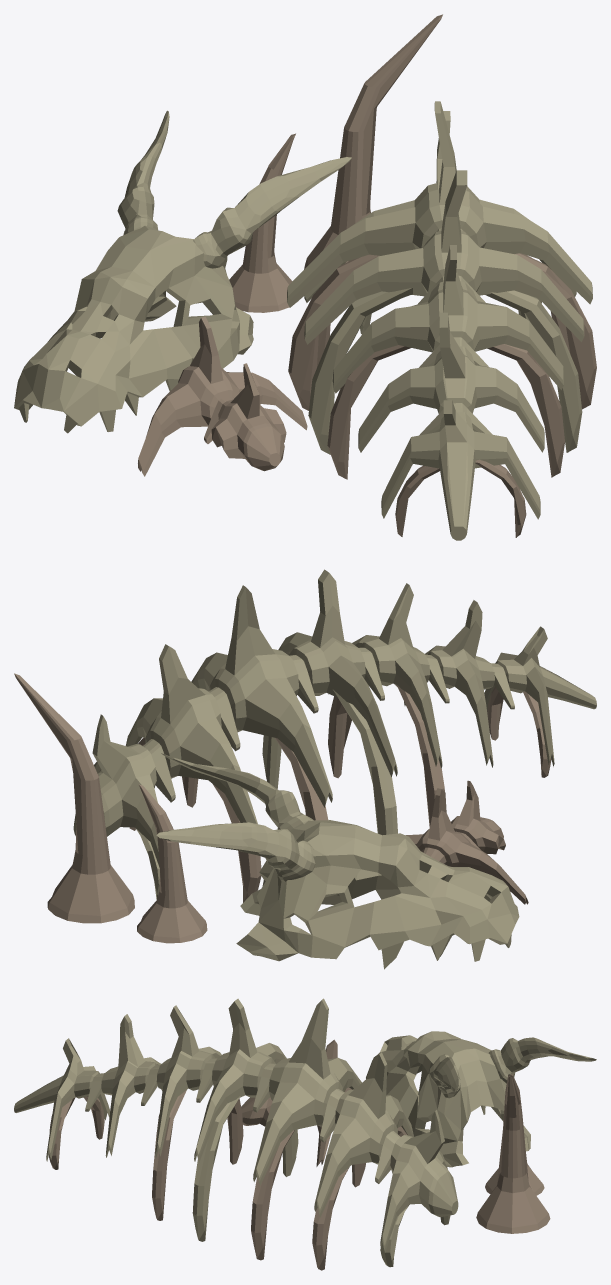
The model's file is dragons_bones_Set.fbx.
3 views of the same model, one above another, from view 1: azimuth 30°, elevation 25°; view 2: azimuth 150°, elevation 25°; view 3: azimuth 270°, elevation 25° (orthographic). The views are drawn at different scales.
Parts seen in each view (by area): view 1: Cylinder.030; view 2: Cylinder.030; view 3: Cylinder.030.
Boxes of the visible parts, left/top/right/bottom form: Cylinder.030: left=14, top=14, right=596, bottom=540; Cylinder.030: left=14, top=569, right=596, bottom=969; Cylinder.030: left=14, top=998, right=596, bottom=1270.
Bounding box in the file's own units: 2548 × 1472 × 3430.
